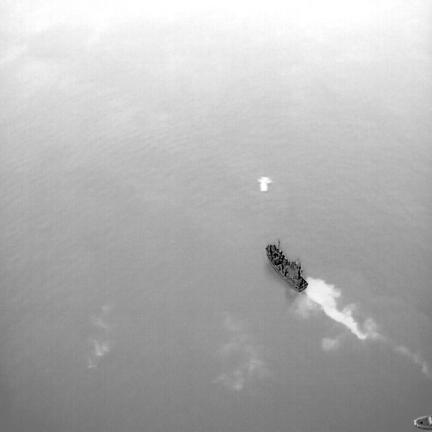flukeprints: (258, 176, 271, 191)
